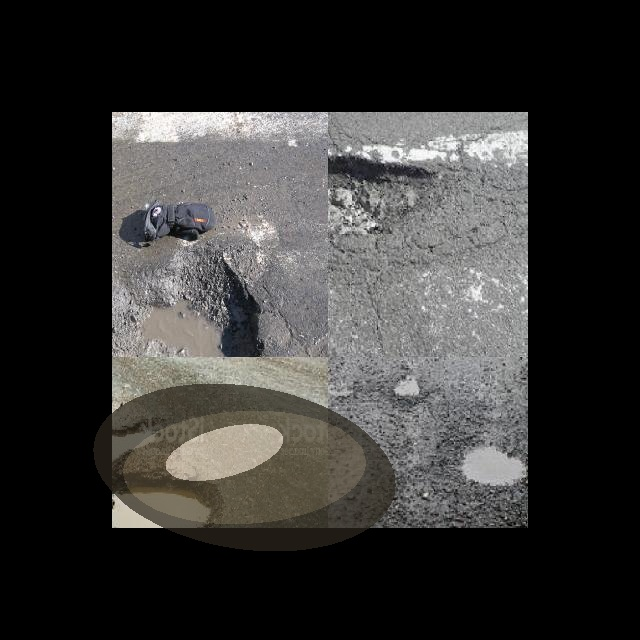waterlogging: (82, 376, 406, 558)
